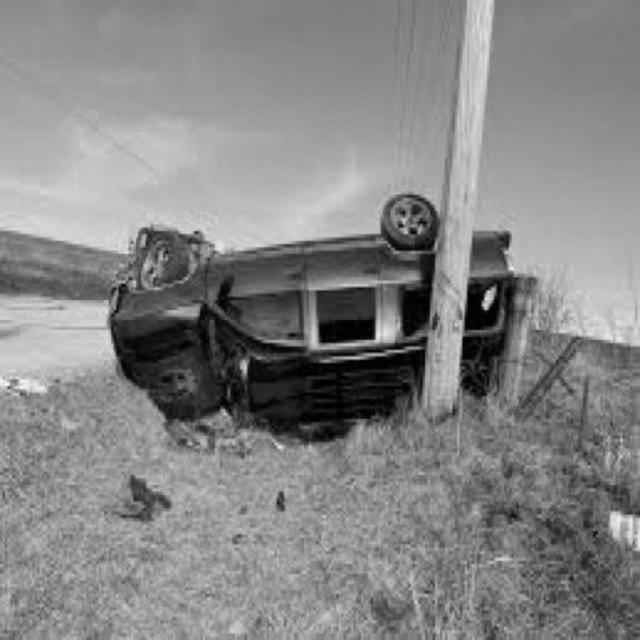accident: (109, 188, 511, 425)
